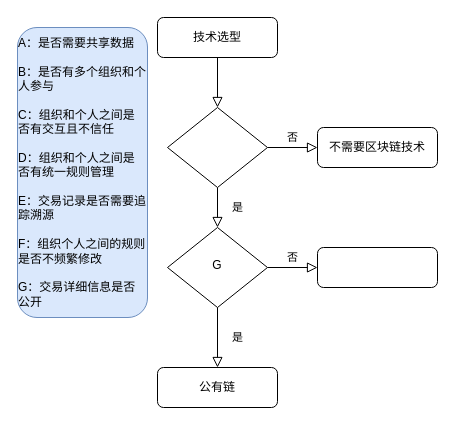
Some shapes in this 455 by 425 pixel diagram are drawn without their labels. Each missing label, with the centre of its shape:
"A&B&C&D&E&F" goes at (x=217, y=147).
"联盟链" goes at (x=377, y=267).
